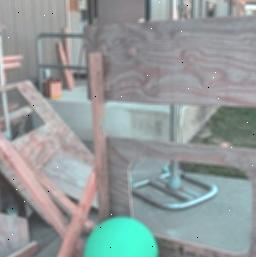algae: (87, 217, 159, 257)
